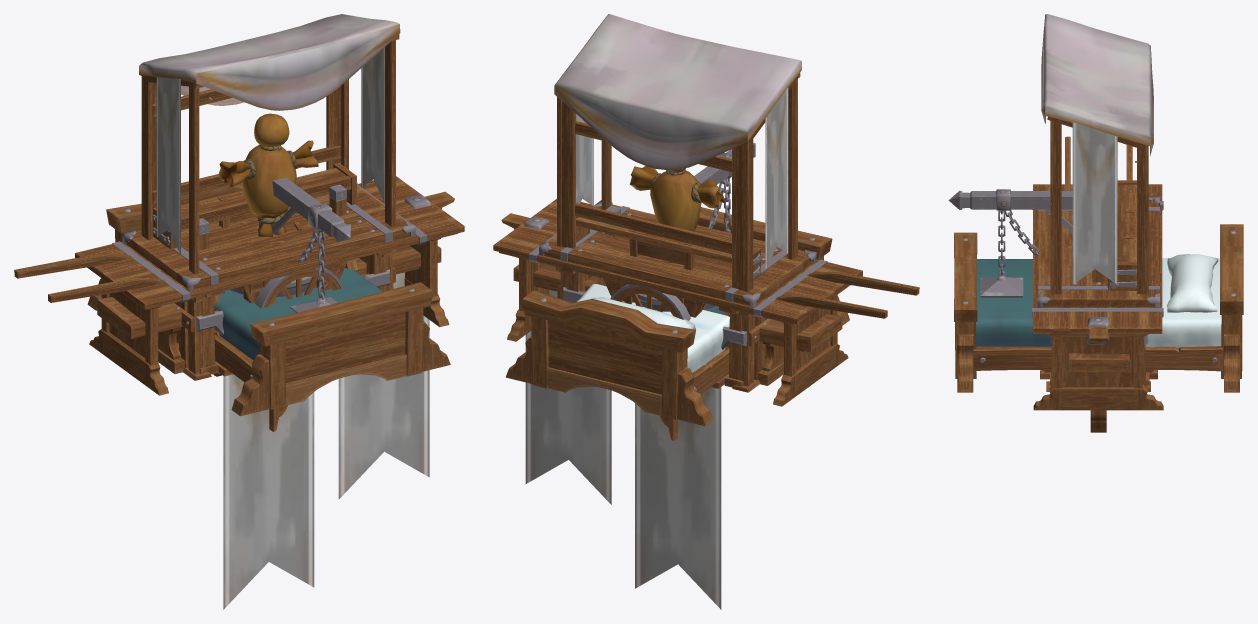
The model's file is utileria.glb.
3 renders of one model, left to right at view 1: azimuth 30°, elevation 25°; view 2: azimuth 150°, elevation 25°; view 3: azimuth 270°, elevation 25°, orthographic. The views are drawn at different scales.
Visible parts, largest first — view 1: Bed_Twin1, Stall_Cart_Empty, Stall_Empty, Banner_1_Cloth, Table_Large, Workbench, Banner_1, Dummy, Bench, Lantern_Wall, WeaponStand; view 2: Stall_Empty, Bed_Twin1, Stall_Cart_Empty, Banner_1_Cloth, Table_Large, Workbench, Banner_1, Dummy, Bench, Lantern_Wall, Chair_1; view 3: Bed_Twin1, Stall_Empty, Table_Large, Stall_Cart_Empty, Workbench, Lantern_Wall, Bench, Banner_1.
Boxes of the visible parts, <box> form: Bed_Twin1: <box>87,182,450,416</box>; Stall_Cart_Empty: <box>14,16,400,368</box>; Stall_Empty: <box>139,14,399,380</box>; Banner_1_Cloth: <box>223,374,314,609</box>; Table_Large: <box>75,176,464,395</box>; Workbench: <box>122,185,415,374</box>; Banner_1: <box>269,191,454,499</box>; Dummy: <box>218,113,318,236</box>; Bench: <box>97,245,441,373</box>; Lantern_Wall: <box>259,177,351,312</box>; WeaponStand: <box>199,184,358,376</box>; Stall_Empty: <box>554,27,801,392</box>; Bed_Twin1: <box>505,207,849,425</box>; Stall_Cart_Empty: <box>554,14,919,380</box>; Banner_1_Cloth: <box>635,387,721,609</box>; Table_Large: <box>493,199,862,406</box>; Workbench: <box>539,200,816,387</box>; Banner_1: <box>501,213,677,504</box>; Dummy: <box>630,166,724,231</box>; Bench: <box>513,264,842,385</box>; Lantern_Wall: <box>694,143,755,232</box>; Chair_1: <box>629,229,694,270</box>; Bed_Twin1: <box>954,224,1243,392</box>; Stall_Empty: <box>1045,20,1153,391</box>; Table_Large: <box>1032,184,1163,410</box>; Stall_Cart_Empty: <box>1041,14,1153,294</box>; Workbench: <box>1037,196,1159,384</box>; Lantern_Wall: <box>948,189,1072,297</box>; Bench: <box>1069,353,1130,372</box>; Banner_1: <box>1087,317,1109,432</box>.
Bounding box in the file's own units: 3.72 × 4.87 × 2.46.
5 materials, 5 textured.
